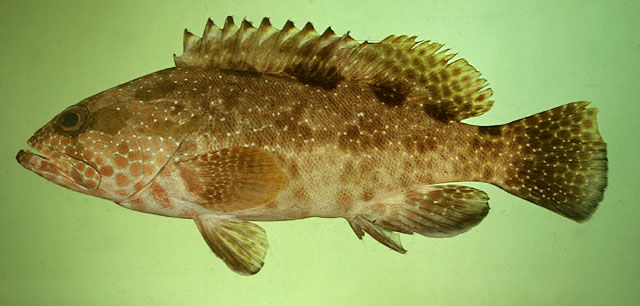fish: (16, 15, 610, 277)
